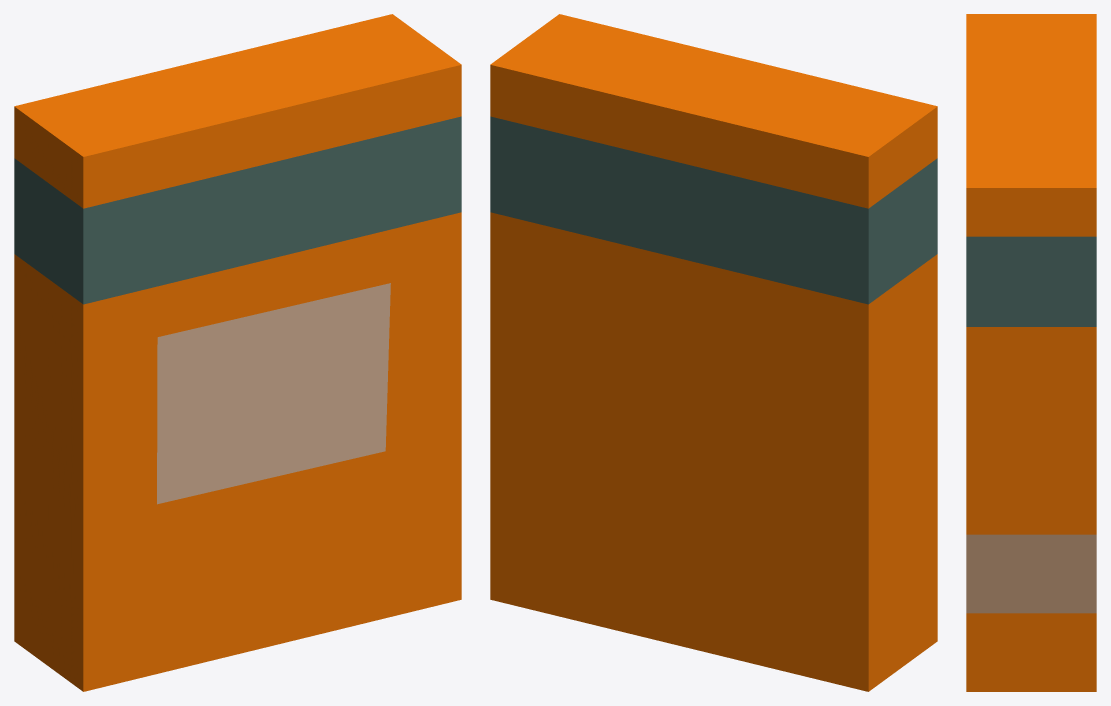
Rendered from FoodBox_01.fbx.
3 views of the same model, side by side, from view 1: azimuth 30°, elevation 25°; view 2: azimuth 150°, elevation 25°; view 3: azimuth 270°, elevation 25° (orthographic). The views are drawn at different scales.
Visible parts, largest first — view 1: FoodBox_01; view 2: FoodBox_01; view 3: FoodBox_01.
Part boxes in pixels (left/top/right/bottom): FoodBox_01: left=14, top=14, right=461, bottom=691; FoodBox_01: left=490, top=14, right=937, bottom=691; FoodBox_01: left=966, top=14, right=1096, bottom=691.
Bounding box in the file's own units: 21.95 × 29.66 × 6.96.
